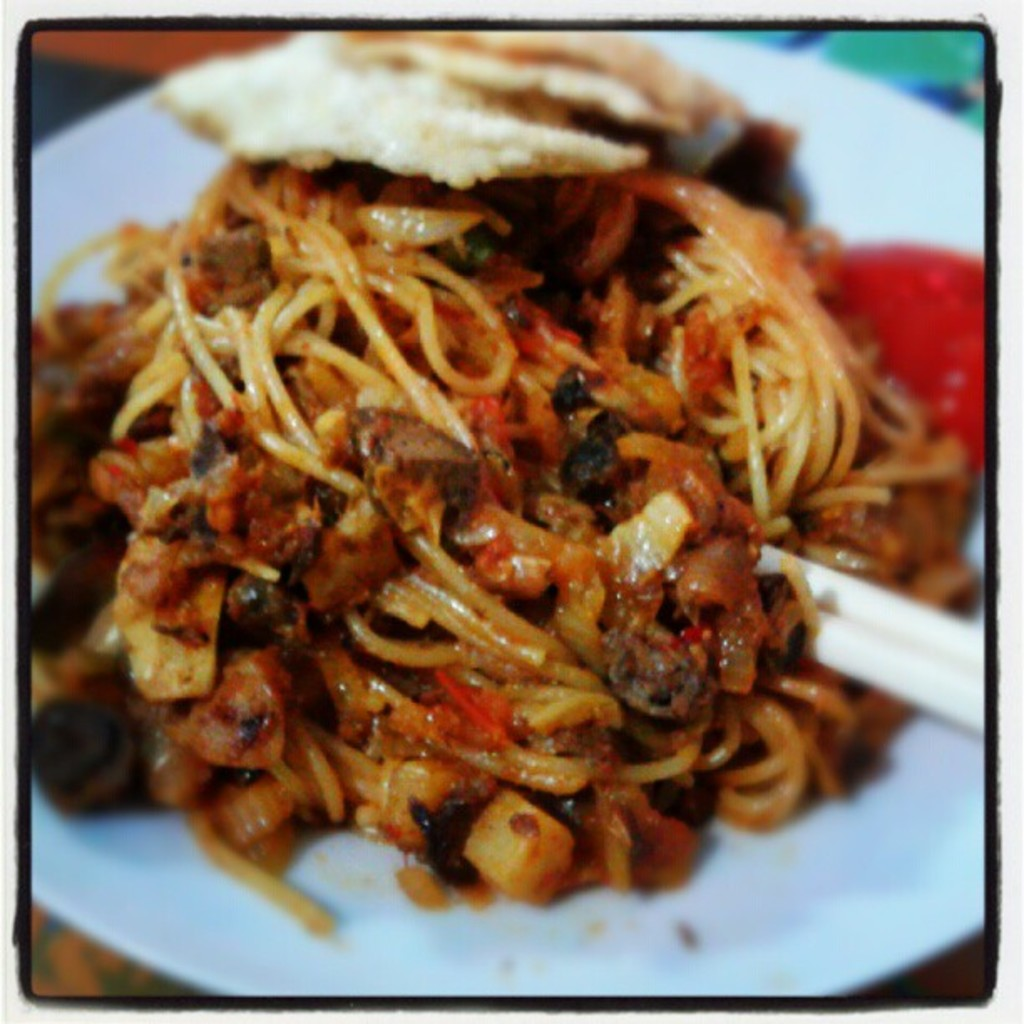pasta: (20, 154, 952, 929)
